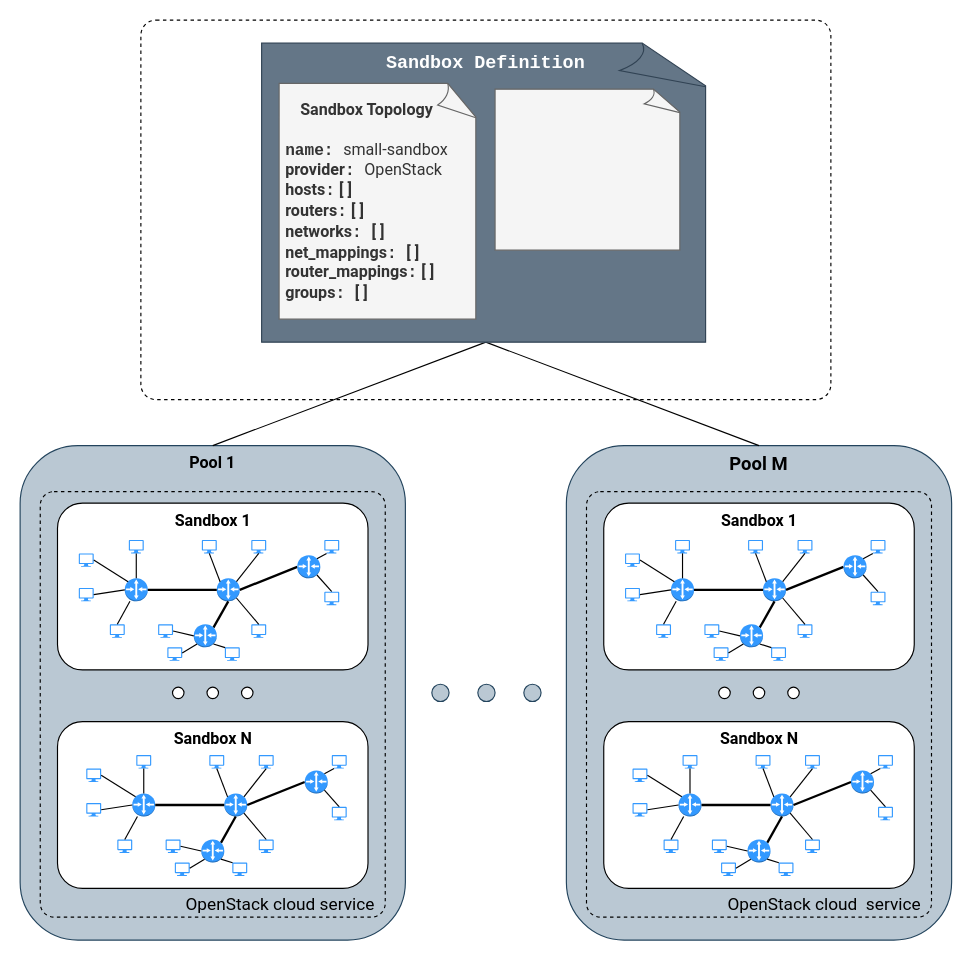
This 972x960 diagram has some shape labels left out. Here are the shapes that lost their labels. From the top down, the box of each, then its label:
(494, 88, 682, 250): User Ansible playbook.yml requirements .yml /roles ...
(140, 19, 831, 400): Git repository
